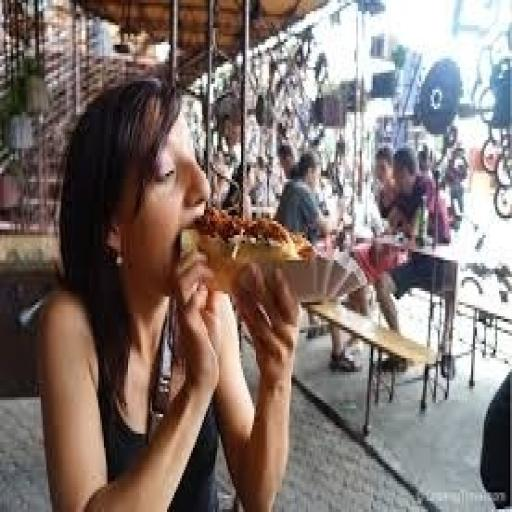eating: (36, 70, 302, 509)
